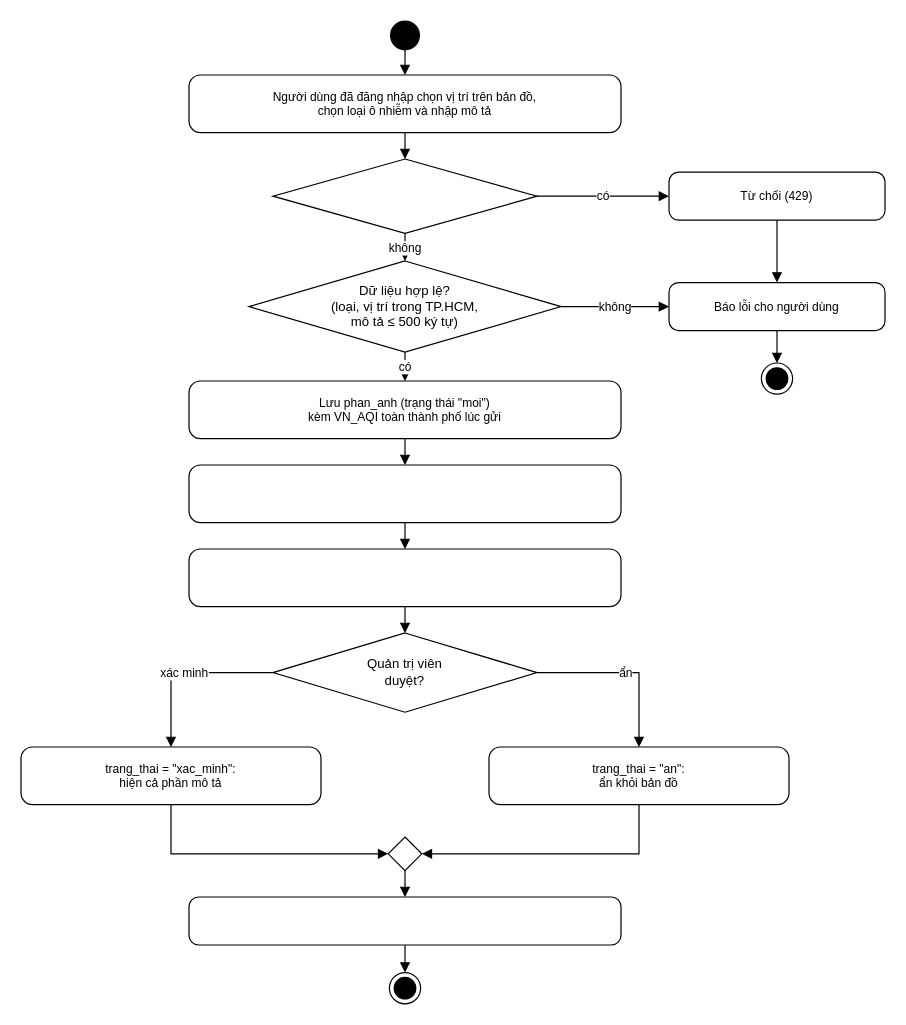
Some shapes in this 906 by 1025 pixel diagram are drawn without their labels. The shapes that lost their labels are listed below. From the top down, each one's centre as x and y in pixels, then its label:
point (404, 195): Quá 5 phản ánh trong 1 giờ?
point (404, 493): Hiện ngay trên bản đồ: chỉ loại, vị trí, thời điểm (chưa hiện mô tả)
point (404, 577): Người dùng khác bấm "Tôi cũng thấy" (lưu phan_anh_xac_nhan)
point (404, 920): Sau 72 giờ tự ẩn khỏi bản đồ công khai
